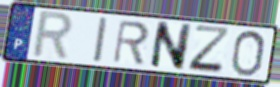I: (92, 15, 110, 65)
N: (147, 20, 194, 72)
O: (228, 29, 267, 78)
R: (29, 9, 75, 63), (111, 19, 152, 67)
Z: (187, 24, 234, 76)
